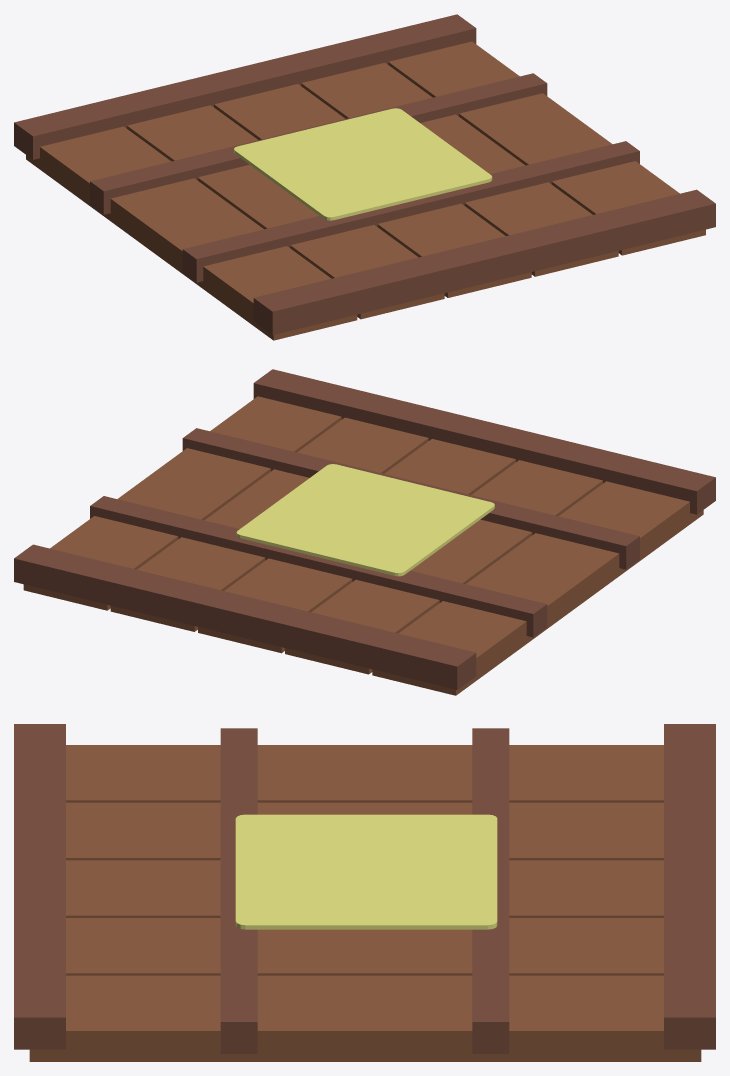
The model's file is boxtapa.fbx.
The picture shows the model from 3 angles, top to bottom: view 1: azimuth 30°, elevation 25°; view 2: azimuth 150°, elevation 25°; view 3: azimuth 270°, elevation 25°; orthographic projection. The views are drawn at different scales.
Visible parts, largest first — view 1: Cube.016; view 2: Cube.016; view 3: Cube.016.
Part boxes in pixels (x1,y1,x2,y2): Cube.016: [14, 14, 715, 340]; Cube.016: [14, 369, 715, 695]; Cube.016: [14, 724, 715, 1061].
Bounding box in the file's own units: 389 × 29.19 × 393.
